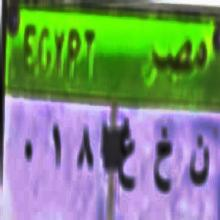0: (21, 126, 37, 182)
1: (50, 118, 64, 178)
8: (72, 121, 95, 181)
ghayn: (118, 113, 138, 204)
khaa: (152, 122, 174, 194)
noon: (188, 128, 210, 193)
